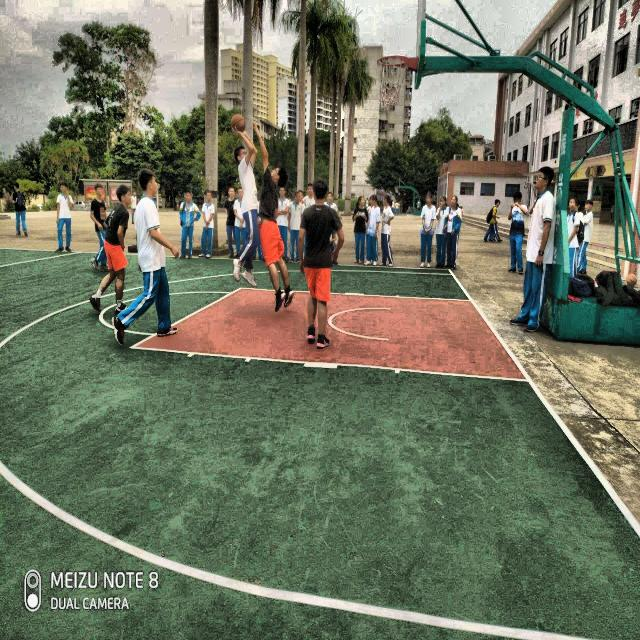board: (230, 114, 246, 132)
rim: (376, 46, 418, 118)
